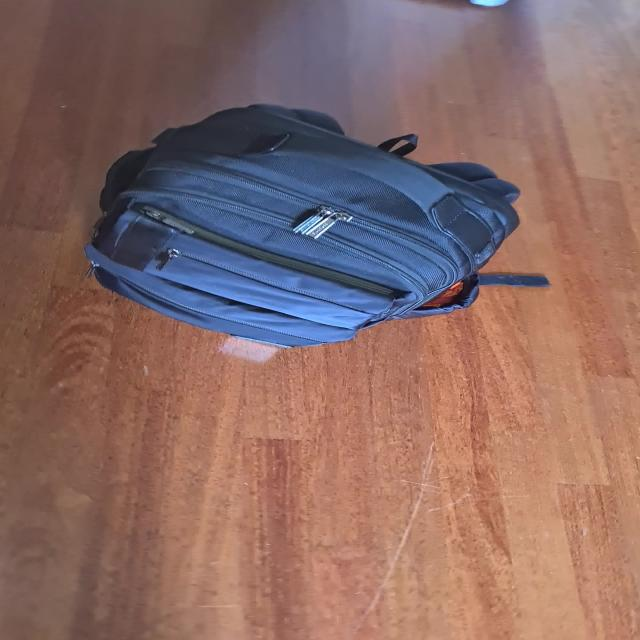backpack: (68, 94, 531, 349)
